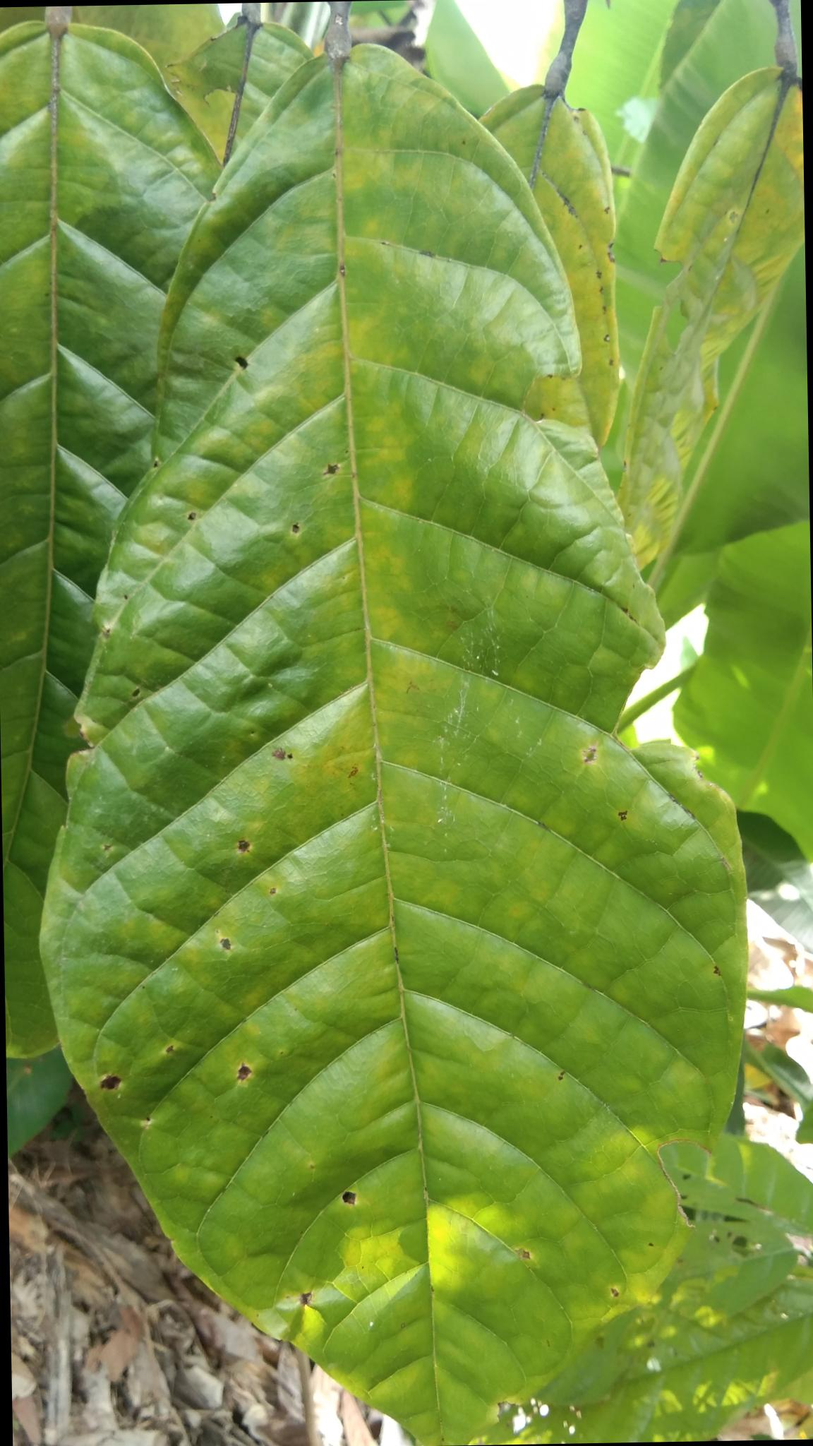Potasio: (23, 2, 767, 1445)
